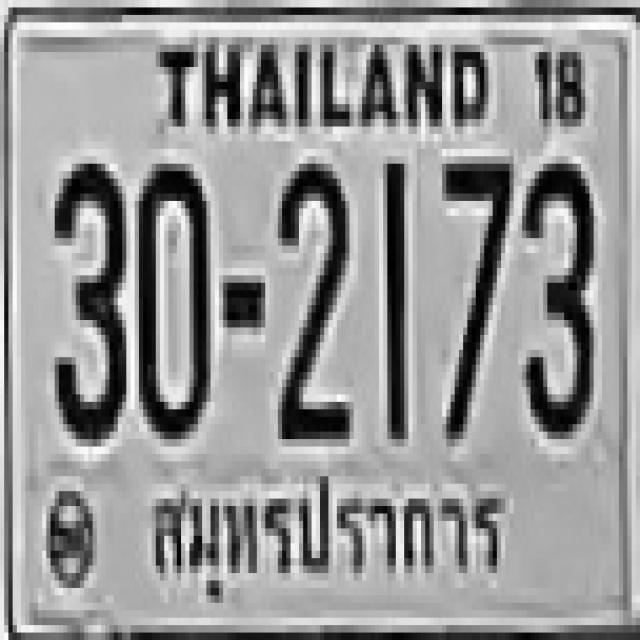0: (135, 156, 206, 432)
1: (383, 156, 404, 439)
2: (274, 160, 345, 435)
3: (51, 156, 122, 439), (522, 156, 590, 432)
7: (438, 152, 509, 436)
SPK: (140, 464, 524, 627)
